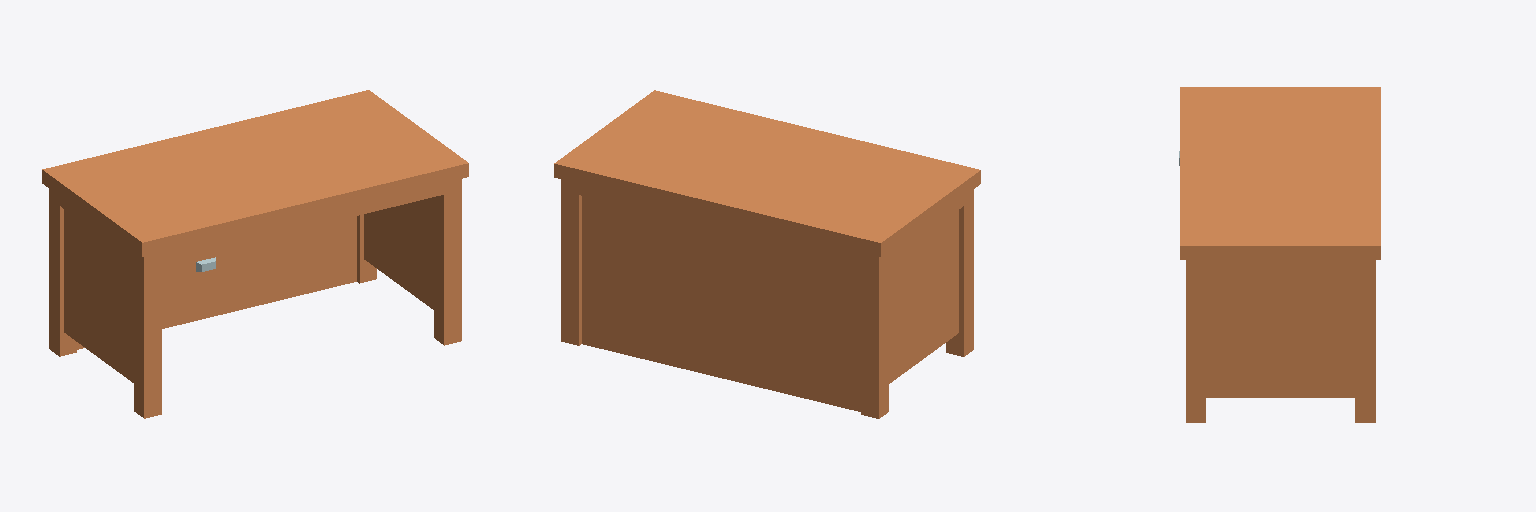
File: desk.obj
3 views of the same model, side by side, from view 1: azimuth 30°, elevation 25°; view 2: azimuth 150°, elevation 25°; view 3: azimuth 270°, elevation 25° (orthographic).
Parts seen in each view (by area): view 1: desk; view 2: desk; view 3: desk.
Boxes of the visible parts, x1,y1,x2,y2 form: desk: [42, 90, 468, 418]; desk: [554, 90, 980, 418]; desk: [1179, 87, 1380, 422].
Size of the model in its own units: 0.7345 by 0.3844 by 0.3923.